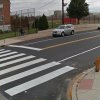crosswalk: (0, 48, 76, 96)
